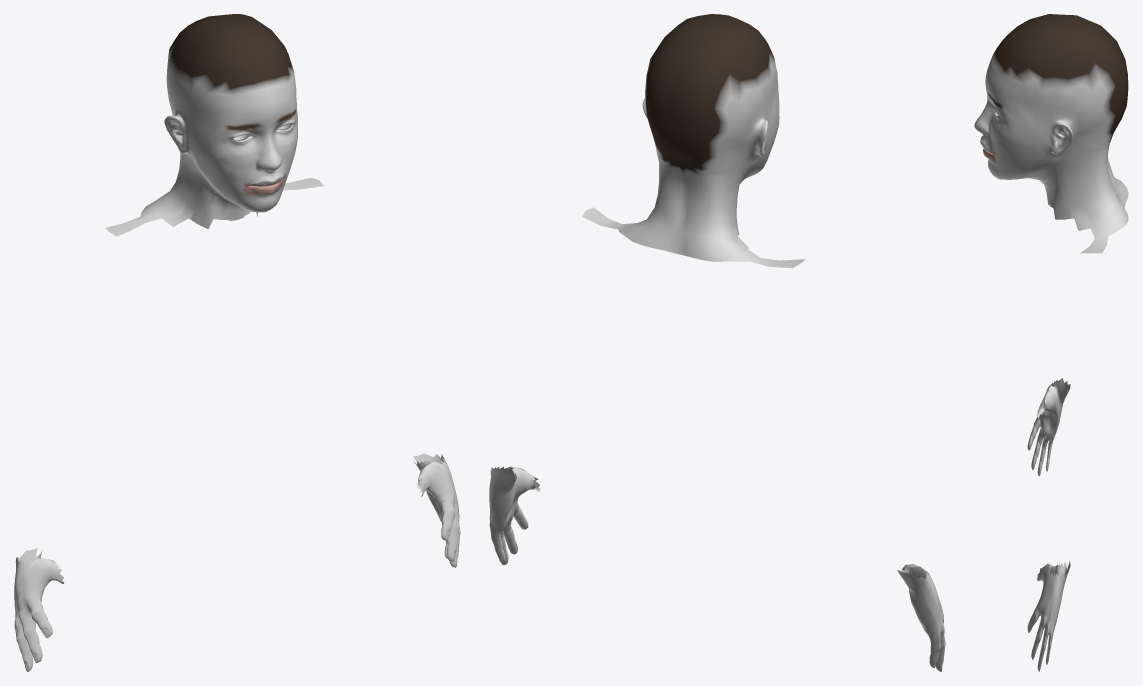
The model's file is avatar-base.glb.
The picture shows the model from 3 angles, left to right: view 1: azimuth 30°, elevation 25°; view 2: azimuth 150°, elevation 25°; view 3: azimuth 270°, elevation 25°; orthographic projection. The views are drawn at different scales.
Parts seen in each view (by area): view 1: HumanVisibleSkin; view 2: HumanVisibleSkin; view 3: HumanVisibleSkin.
Part boxes in pixels (x1,y1,x2,y2): HumanVisibleSkin: (14, 14, 460, 671); HumanVisibleSkin: (489, 14, 945, 671); HumanVisibleSkin: (974, 14, 1128, 671).
Size of the model in its own units: 0.6492 by 0.8233 by 0.2077.
